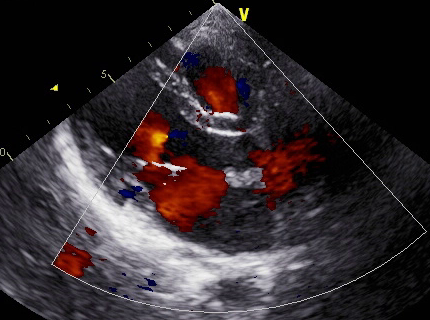AR: (231, 124, 298, 177)
